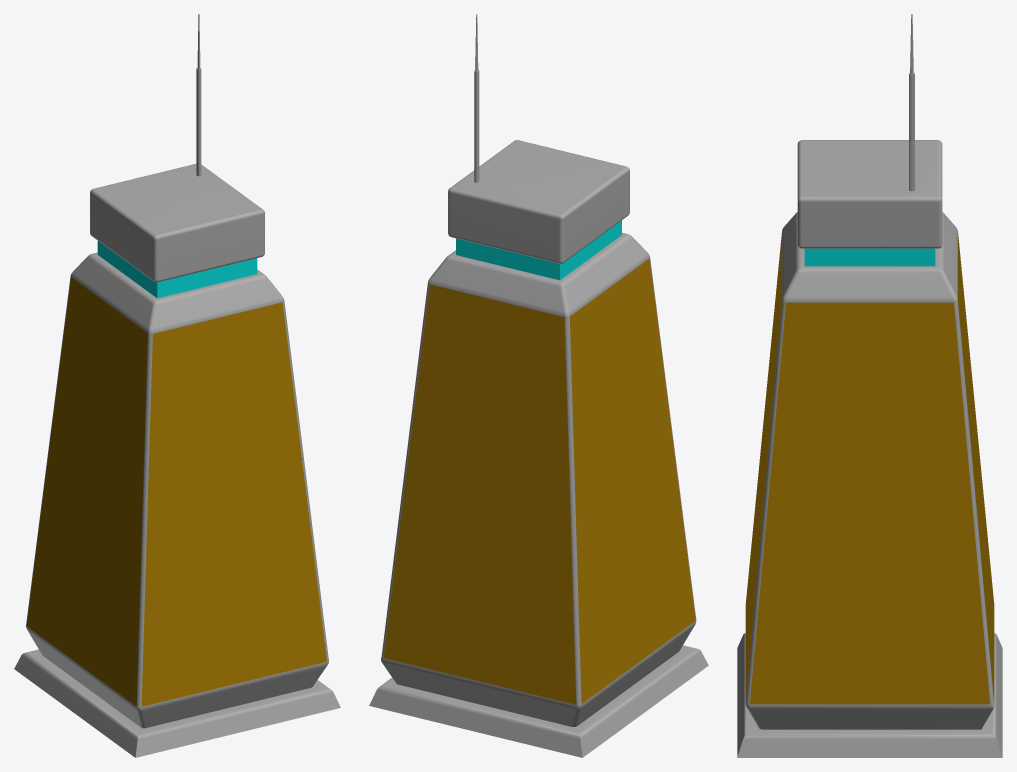
Rendered from Watch Tower.fbx.
3 renders of one model, left to right at view 1: azimuth 30°, elevation 25°; view 2: azimuth 150°, elevation 25°; view 3: azimuth 270°, elevation 25°, orthographic. The views are drawn at different scales.
Parts seen in each view (by area): view 1: WatchTower; view 2: WatchTower; view 3: WatchTower.
Part boxes in pixels (x1=…): WatchTower: x1=14, y1=14, x2=340, y2=757; WatchTower: x1=369, y1=14, x2=708, y2=757; WatchTower: x1=737, y1=14, x2=1002, y2=757.
Size of the model in its own units: 3.63 by 10.98 by 3.72.
